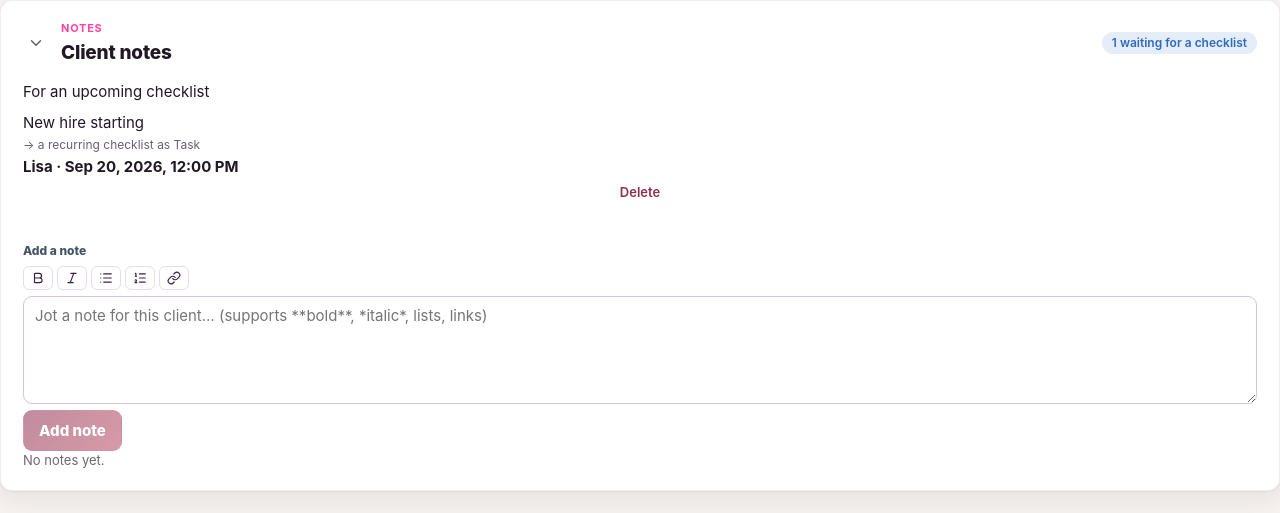
Test: the pending-notes count pill › stays in the header when the section is collapsed and the notes box is unmounted
Expected: the text "1 waiting for a checklist" is shown, [1102,32,1257,54]
Expected: the text "Add a note" is shown, [23,243,86,258]
Click the button named "Collapse Client notes".
click(36, 43)  # box [23,30,49,56]
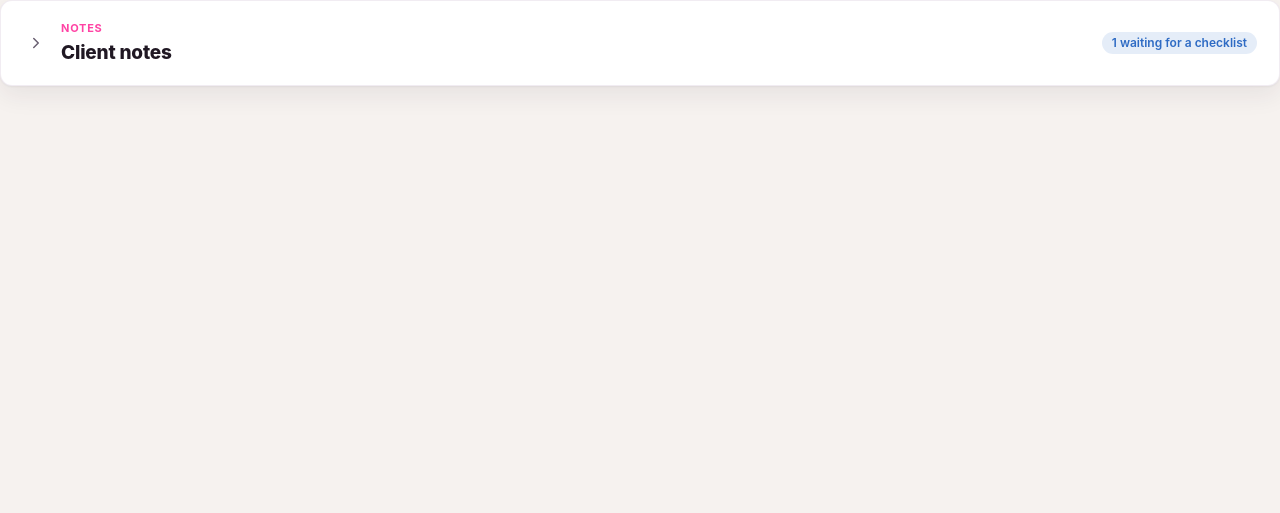
Expected: the text "1 waiting for a checklist" is shown, [1102,32,1257,54]
Now the text "Add a note" is gone
